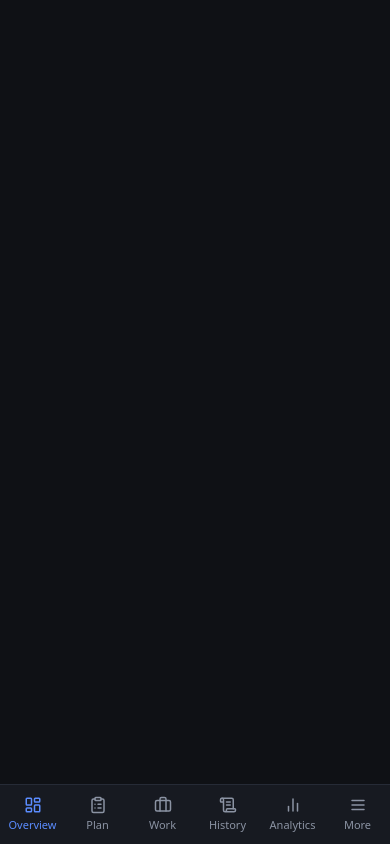
Test: BottomTabBar mobile More navigation › shows Settings only with edit_project and closes after navigating
The image size is (390, 844).
Step 1. Click the button titled "More" → (358, 814), box left=325, top=785, right=389, bottom=843
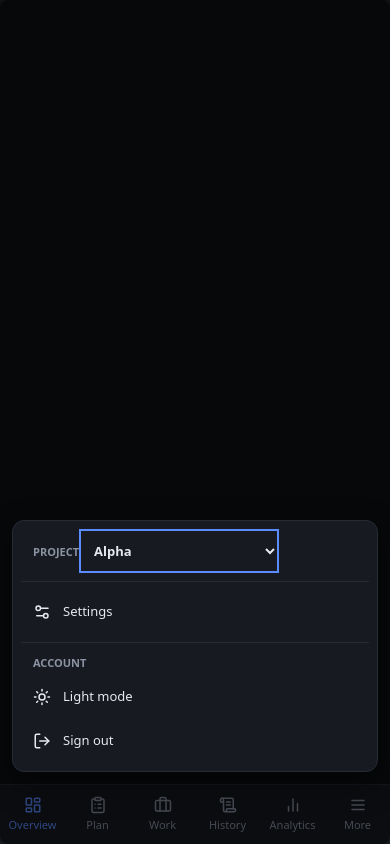
Expected: the button titled "More" is expanded, left=325, top=785, right=389, bottom=843
Step 2. Click the button "Settings" → (88, 611), box left=21, top=590, right=369, bottom=634
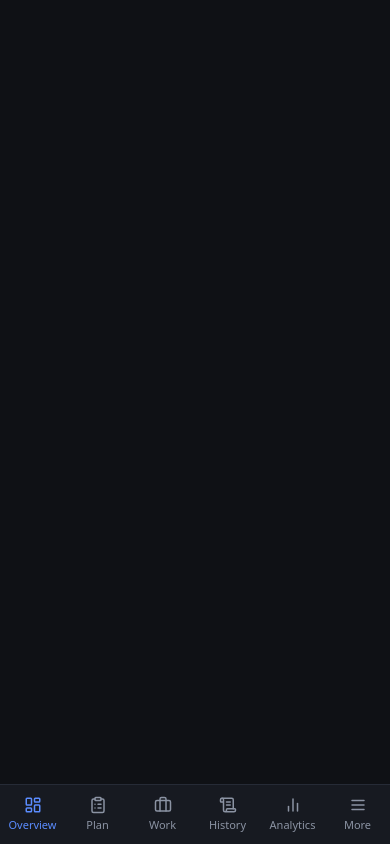
Expected: the button titled "More" is collapsed, left=325, top=785, right=389, bottom=843
